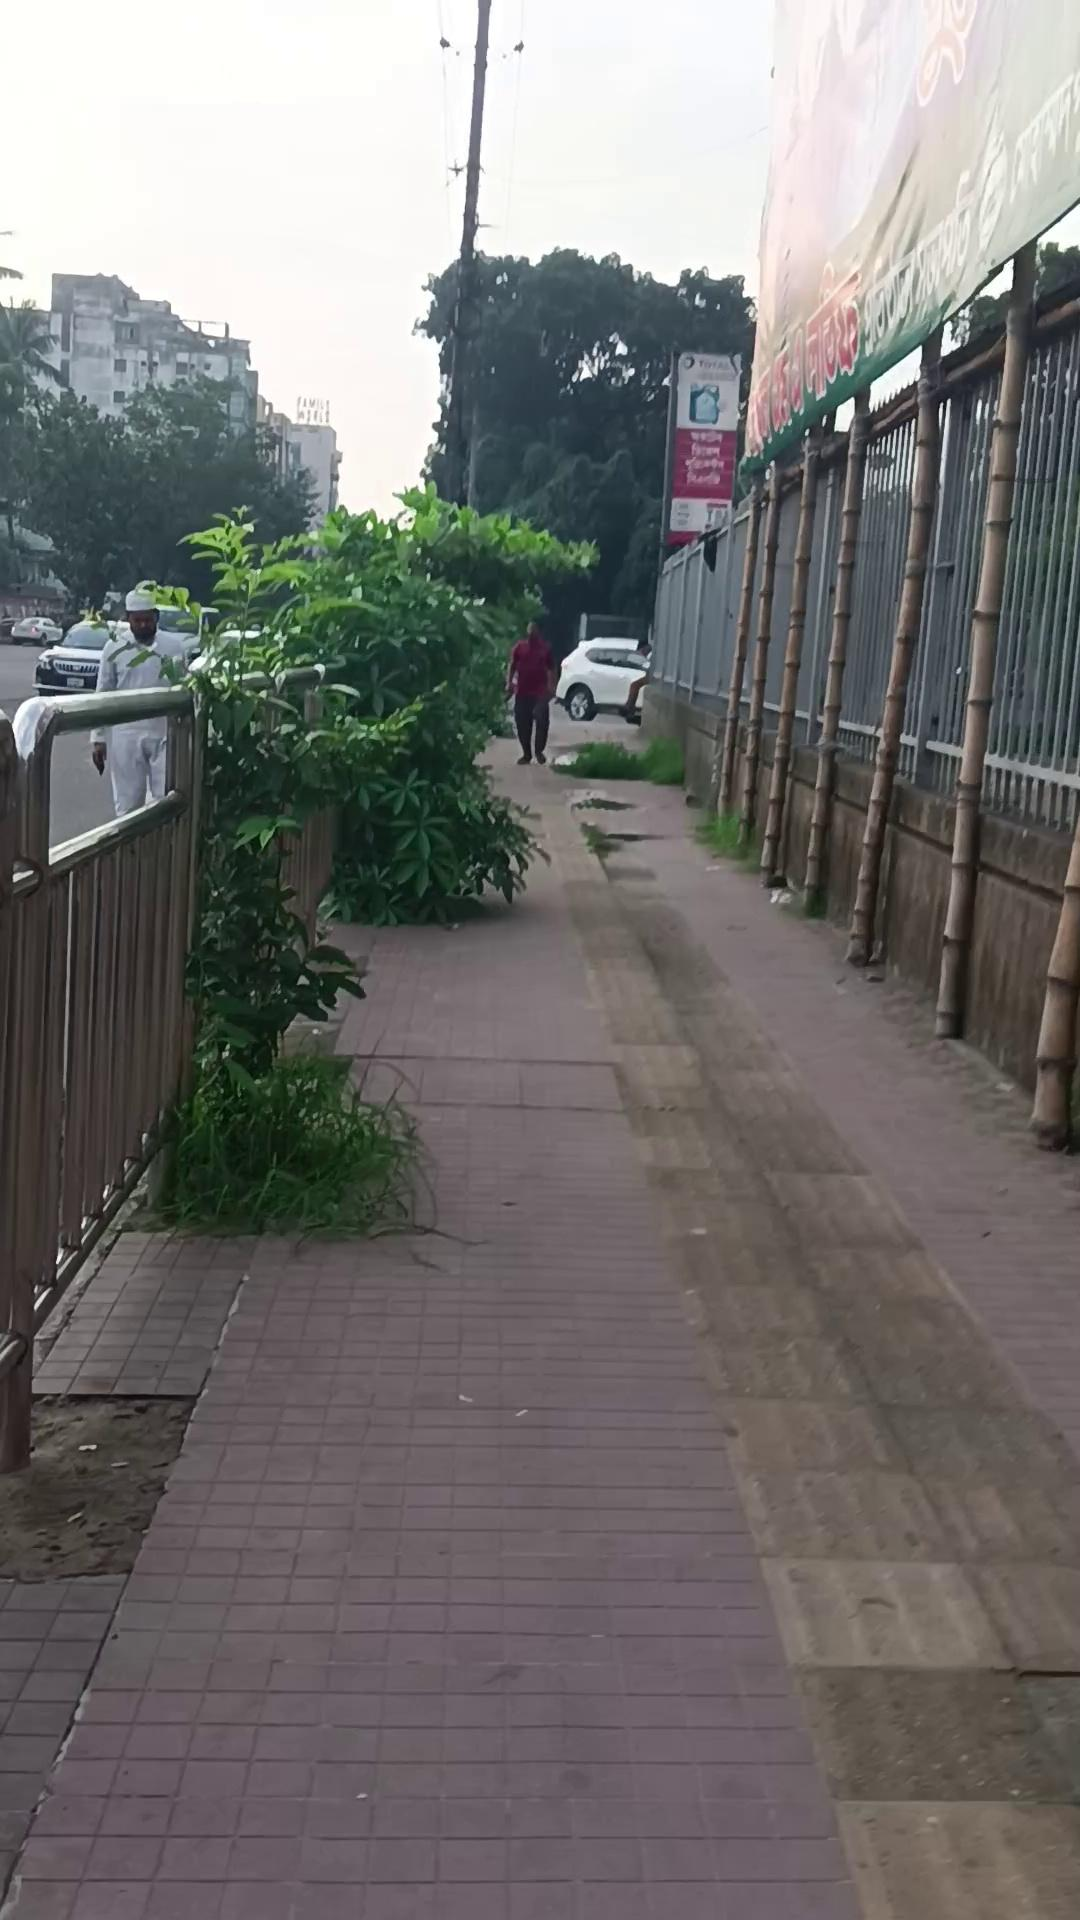Car: (553, 634, 652, 722)
Muddy road: (89, 587, 189, 819), (504, 619, 556, 765), (620, 639, 651, 724)
Obstacle: (930, 239, 1039, 1040), (842, 326, 945, 966), (797, 388, 872, 917), (757, 421, 824, 888), (733, 458, 783, 846)
Potted-plant: (0, 758, 1077, 1914)
